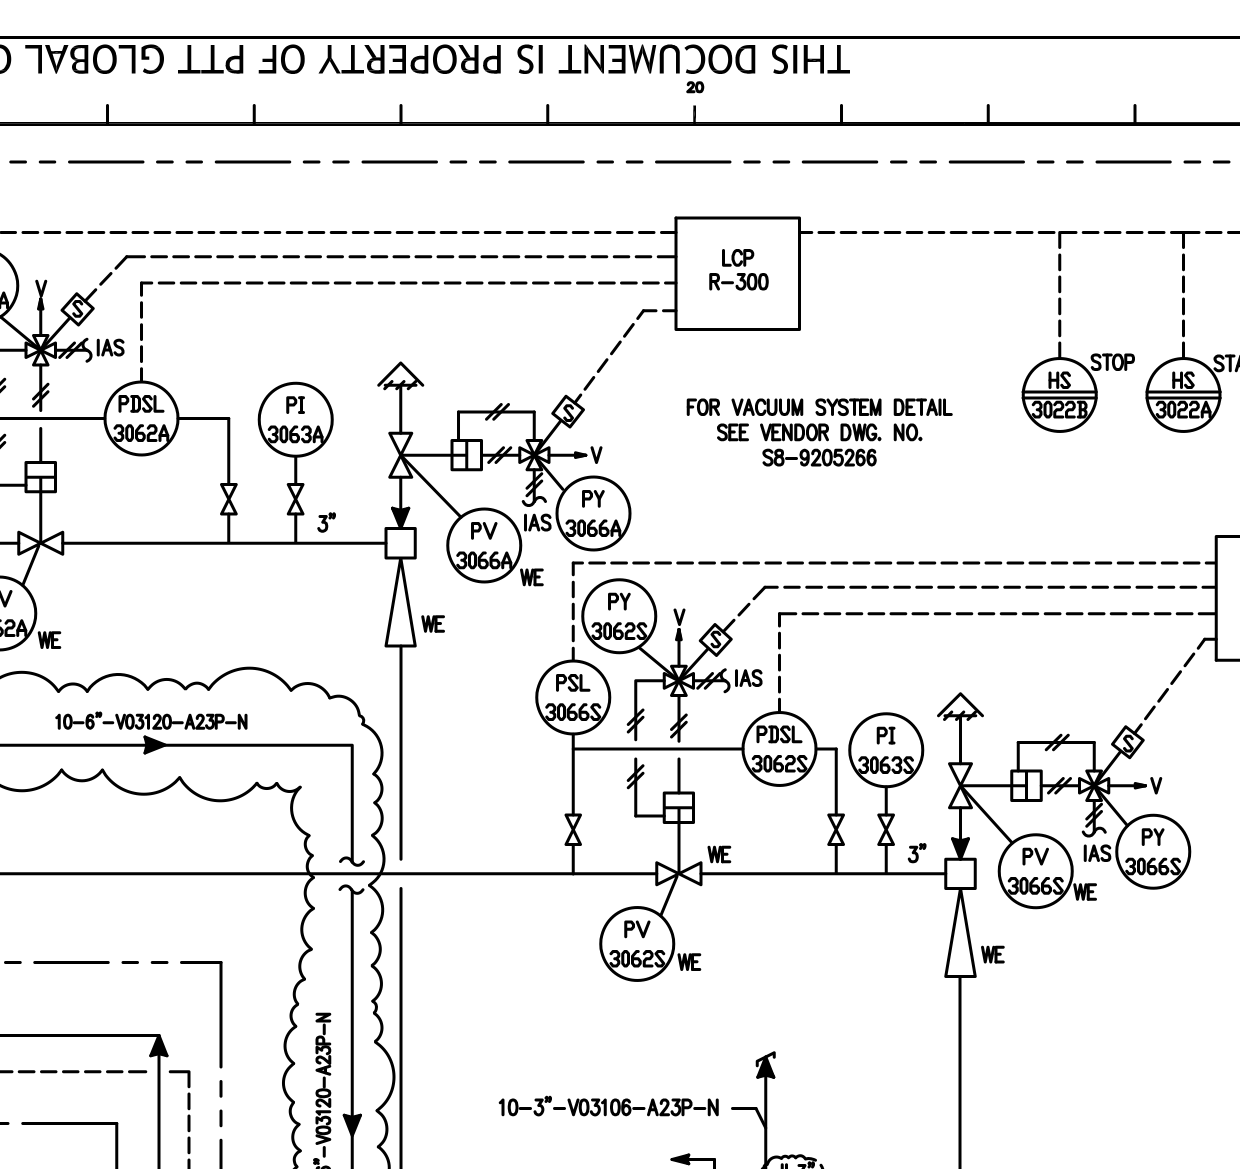Instrument Tag: (530, 652, 627, 741), (733, 709, 829, 798), (591, 900, 688, 989), (92, 375, 188, 464), (252, 377, 347, 466), (436, 501, 532, 590), (547, 474, 643, 563), (572, 567, 668, 656), (839, 708, 935, 797), (988, 827, 1084, 916), (1105, 810, 1200, 899)
Line Number: (496, 1093, 725, 1121), (51, 704, 254, 734), (311, 1007, 337, 1169)
Valve: (648, 853, 707, 891), (11, 525, 72, 560), (945, 756, 980, 815), (386, 425, 420, 485), (825, 809, 850, 851), (282, 478, 308, 520), (561, 810, 587, 851), (875, 808, 900, 850), (217, 479, 242, 521)
